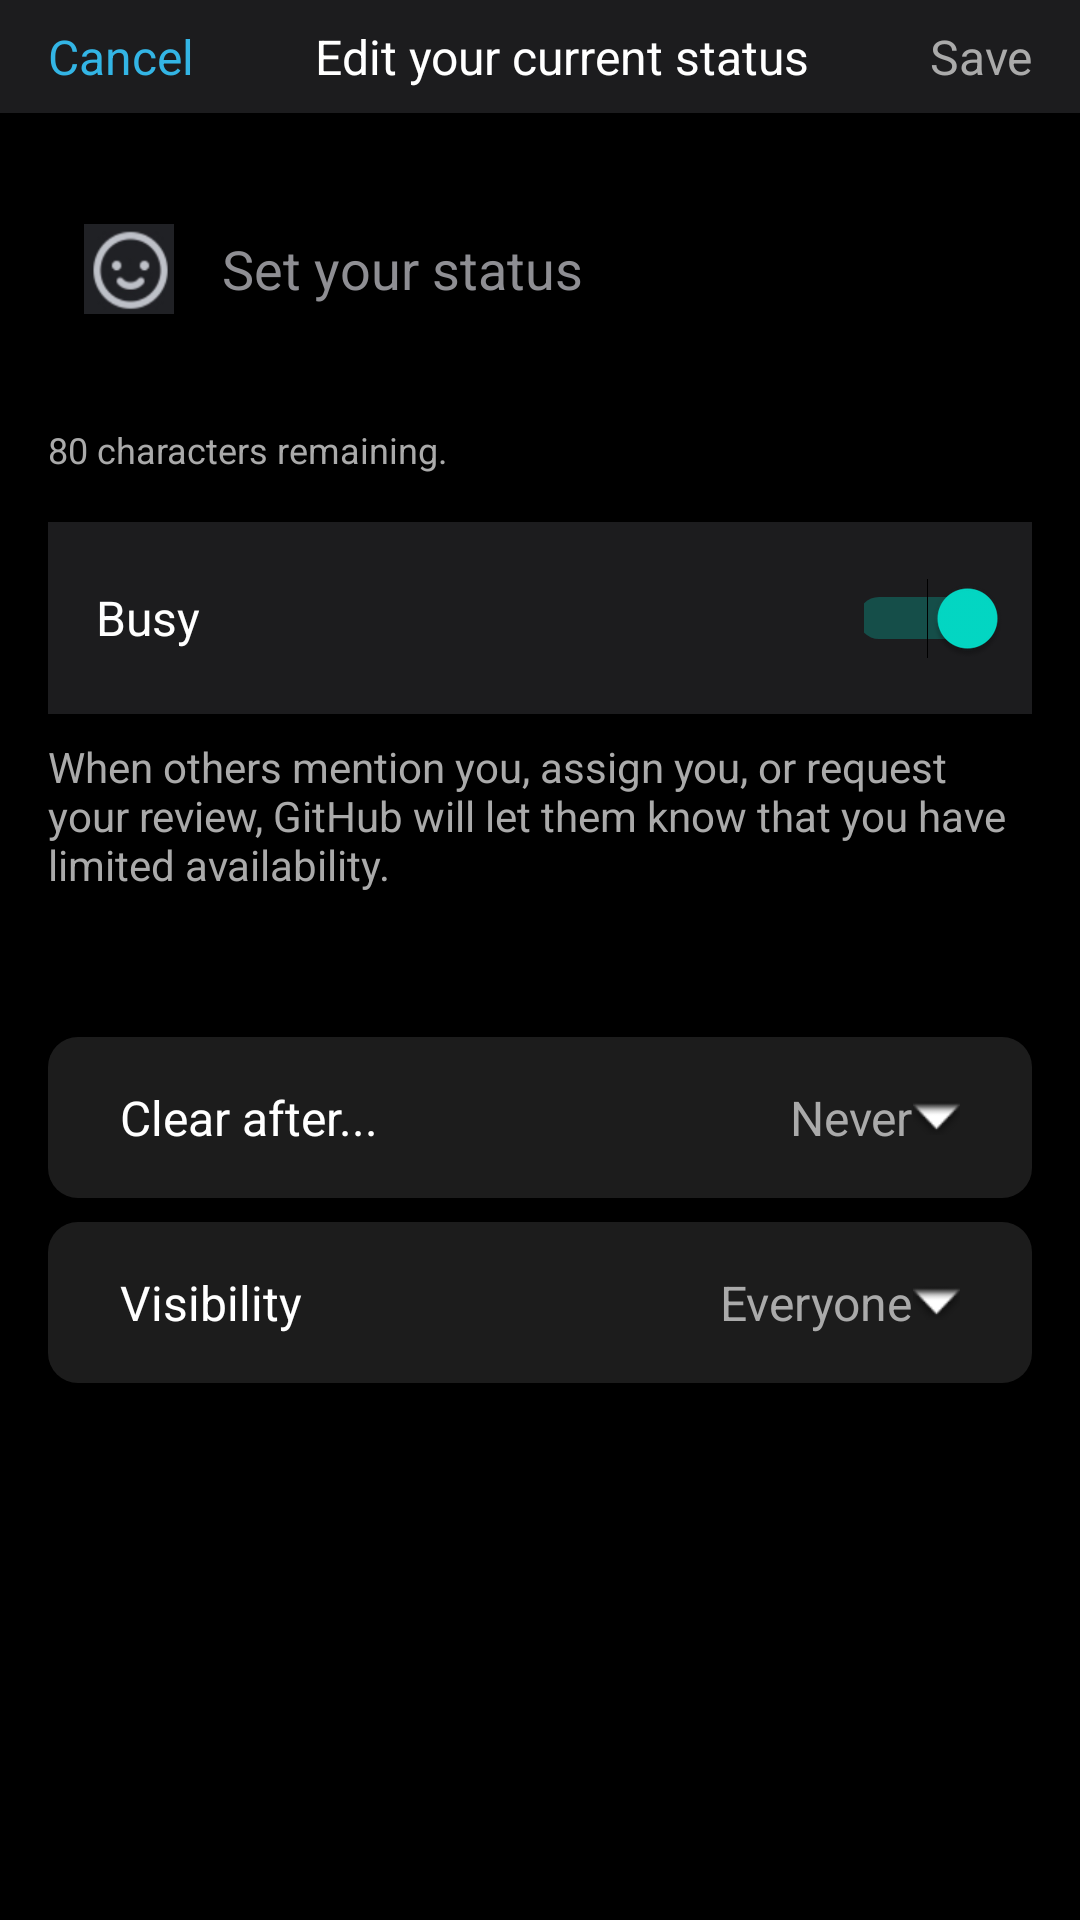

Screen size 1080w x 1920h. Icon name, then its box in pixels as (x1, y1, x2, y2):
smile: (84, 224, 174, 314)
